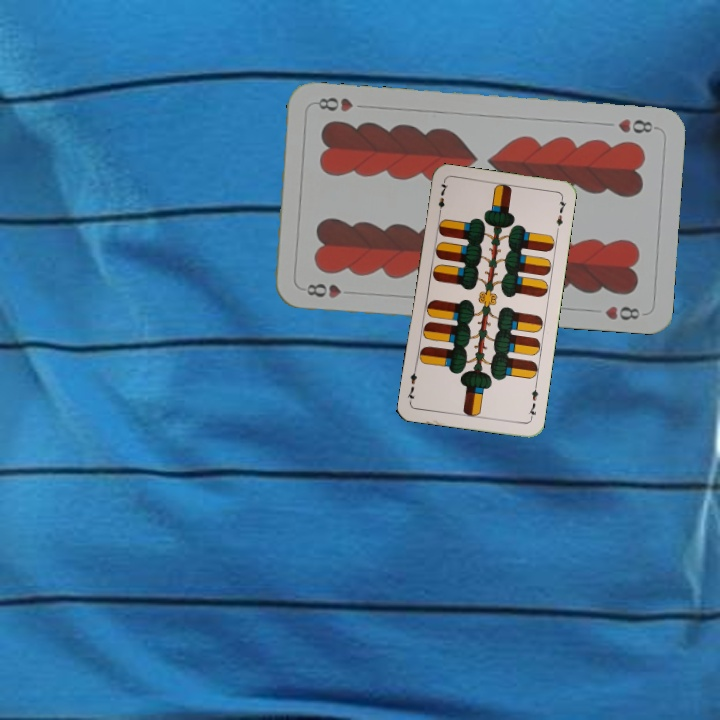E7: (434, 178, 450, 219), (525, 382, 541, 422)
H8: (614, 115, 660, 136), (303, 279, 343, 300)
